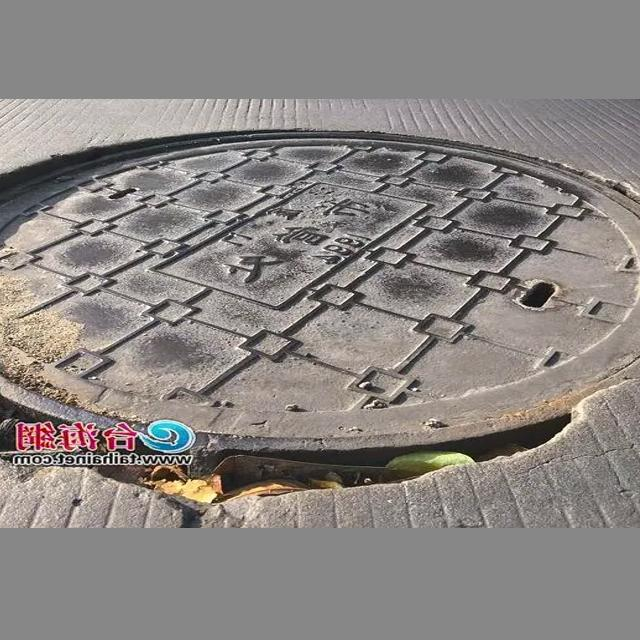circle: (0, 125, 640, 509)
